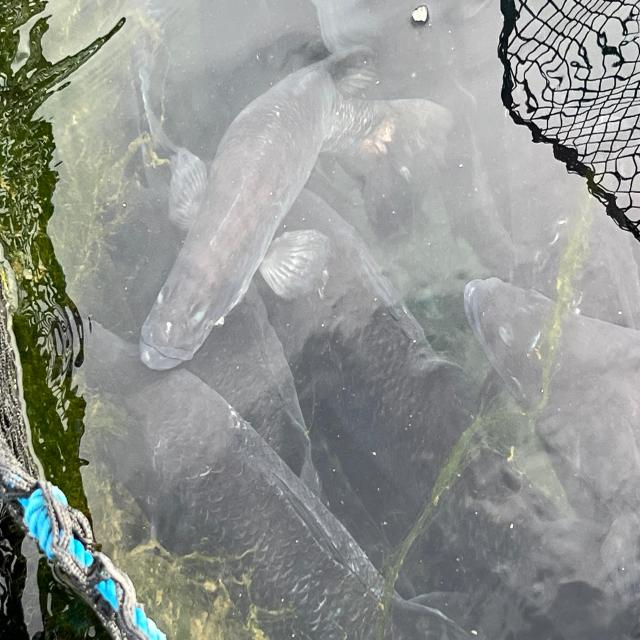ikan: (72, 312, 475, 638), (137, 42, 517, 372)
